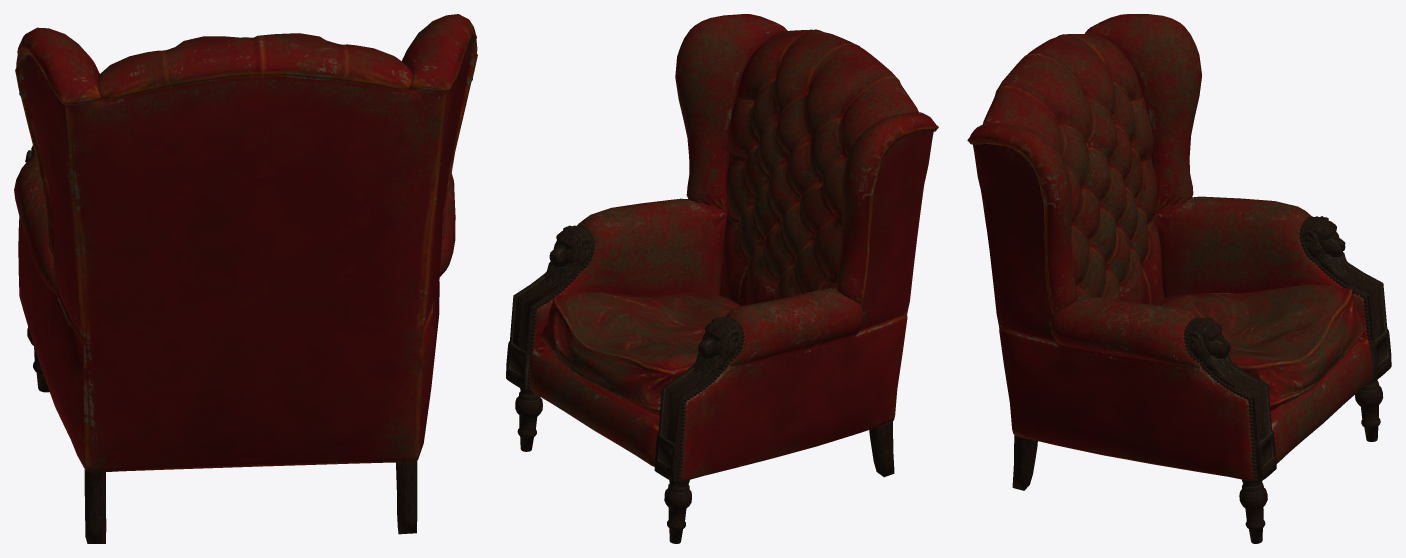
Rendered from Matrix.fbx.
The picture shows the model from 3 angles, left to right: view 1: azimuth 30°, elevation 25°; view 2: azimuth 150°, elevation 25°; view 3: azimuth 270°, elevation 25°; orthographic projection. The views are drawn at different scales.
Parts seen in each view (by area): view 1: Matrix Arm Chair.002; view 2: Matrix Arm Chair.002; view 3: Matrix Arm Chair.002.
Boxes of the visible parts, x1,y1,x2,y2 form: Matrix Arm Chair.002: [14, 14, 477, 543]; Matrix Arm Chair.002: [506, 14, 938, 543]; Matrix Arm Chair.002: [967, 14, 1391, 543].
Bounding box in the file's own units: 107 × 111 × 111.
